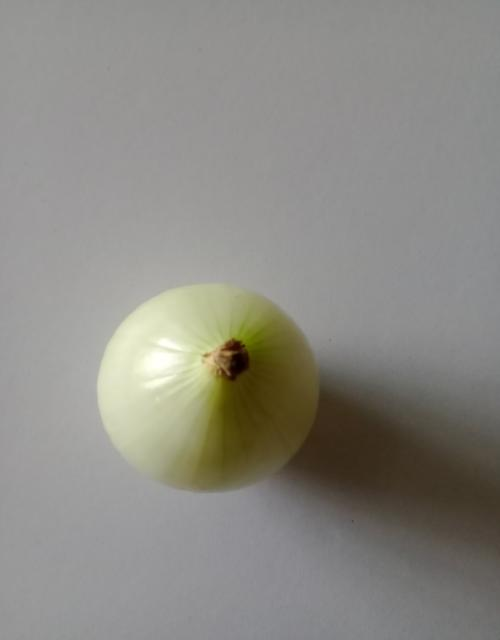Cebolla-: (41, 256, 398, 535)
